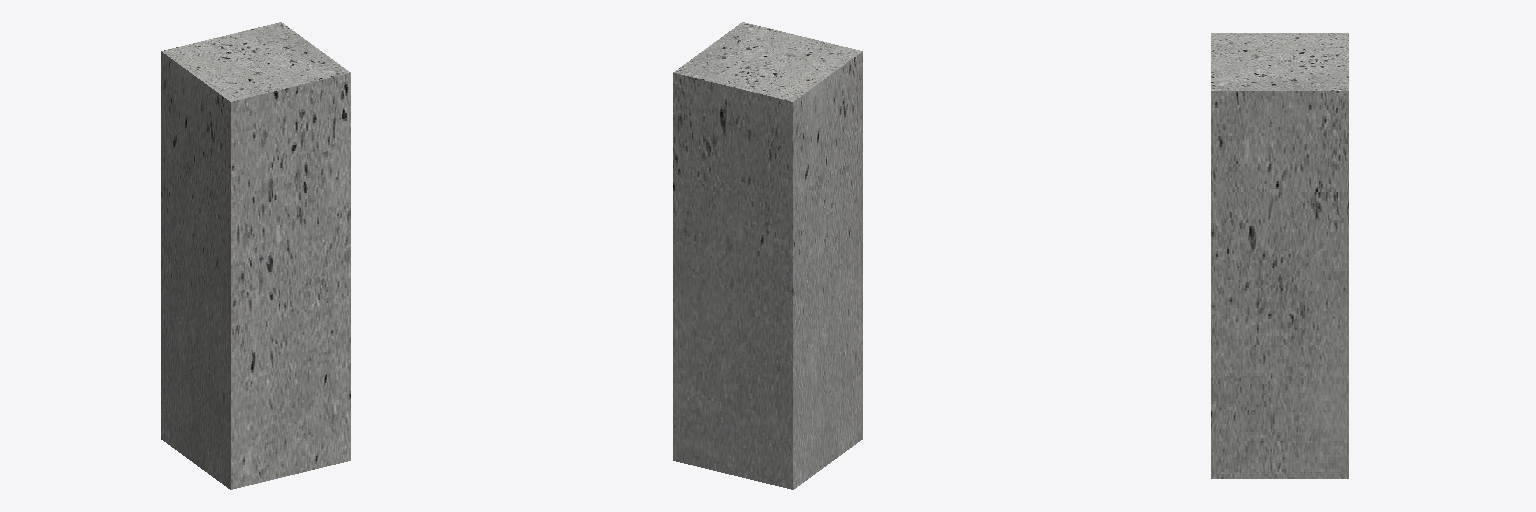
3 renders of one model, left to right at view 1: azimuth 30°, elevation 25°; view 2: azimuth 150°, elevation 25°; view 3: azimuth 270°, elevation 25°, orthographic.
Parts seen in each view (by area): view 1: Cube_Cube.001; view 2: Cube_Cube.001; view 3: Cube_Cube.001.
Boxes of the visible parts, <box> form: Cube_Cube.001: <box>161,22,350,489</box>; Cube_Cube.001: <box>673,22,862,489</box>; Cube_Cube.001: <box>1211,33,1348,478</box>.
Size of the model in its own units: 6.21 by 19.18 by 6.21.
Materials: 1 (1 with a texture image).